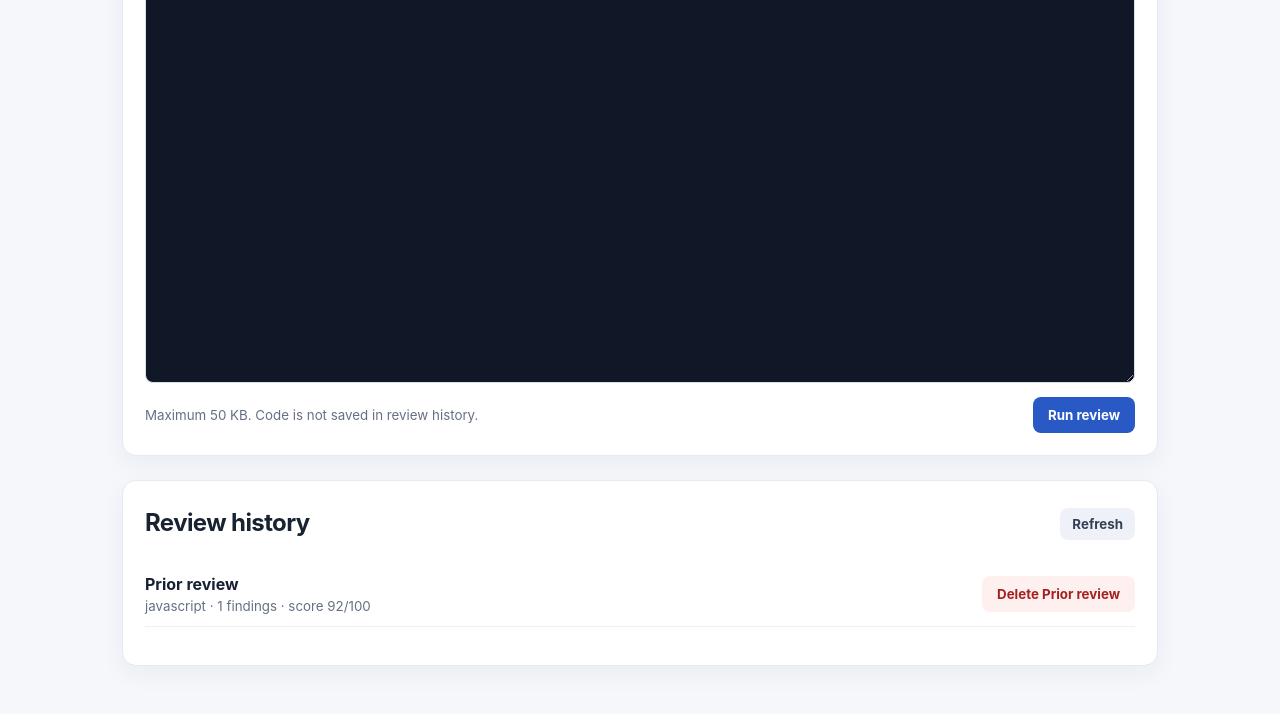
Test: Code Review page › deletes a saved history item
(page scrolled)
Expected: the text "Prior review" is shown, [145,574,239,594]
Click the button "Delete Prior review": (1058, 594) [982,576,1135,612]
(page scrolled)
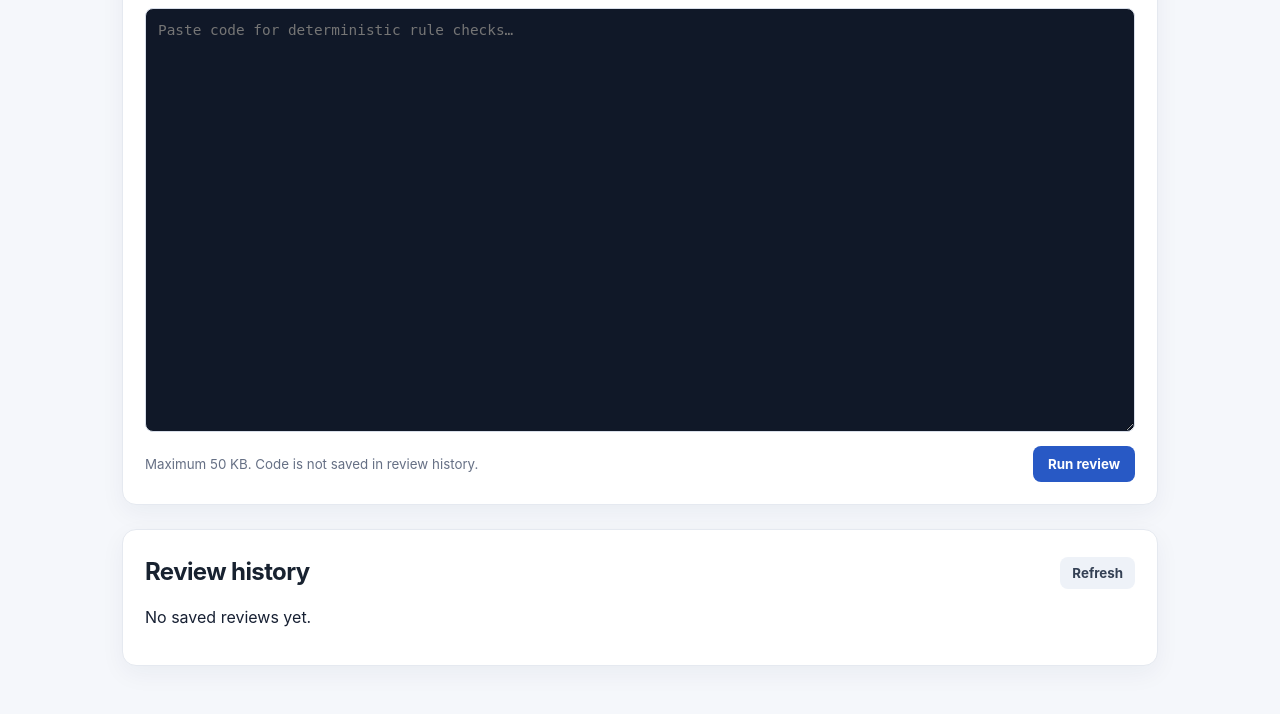
Expected: the text "Prior review" is gone
